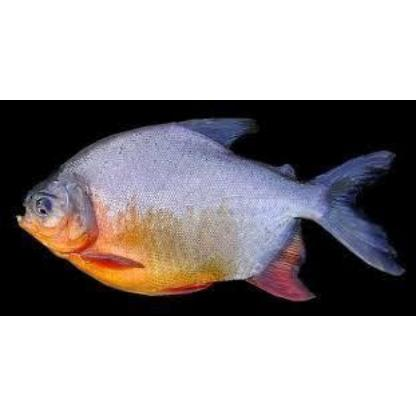ikan-pacu: (16, 118, 396, 296)
